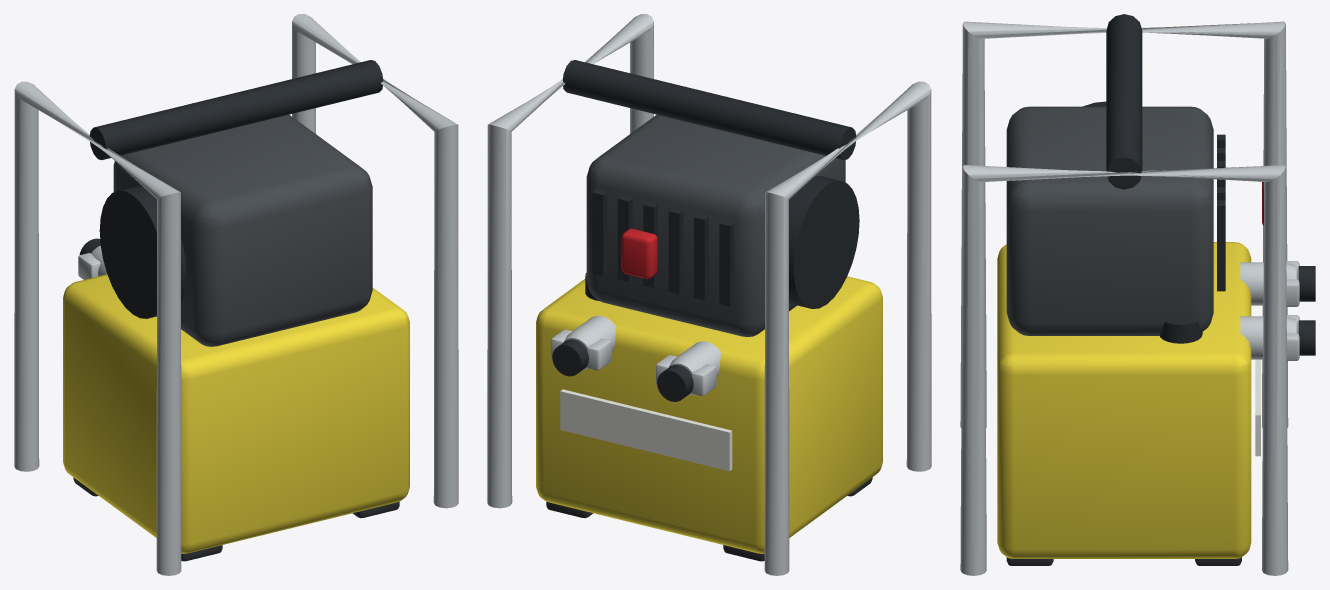
Rendered from hydraulic_powerpack_2.glb.
3 renders of one model, left to right at view 1: azimuth 30°, elevation 25°; view 2: azimuth 150°, elevation 25°; view 3: azimuth 270°, elevation 25°, orthographic. The views are drawn at different scales.
Parts seen in each view (by area): view 1: hydraulic_powerpack_2; view 2: hydraulic_powerpack_2; view 3: hydraulic_powerpack_2.
Boxes of the visible parts, <box> form: hydraulic_powerpack_2: <box>14,14,458,575</box>; hydraulic_powerpack_2: <box>487,14,931,575</box>; hydraulic_powerpack_2: <box>960,14,1315,575</box>.
Size of the model in its own units: 0.2857 by 0.3674 by 0.2776.
